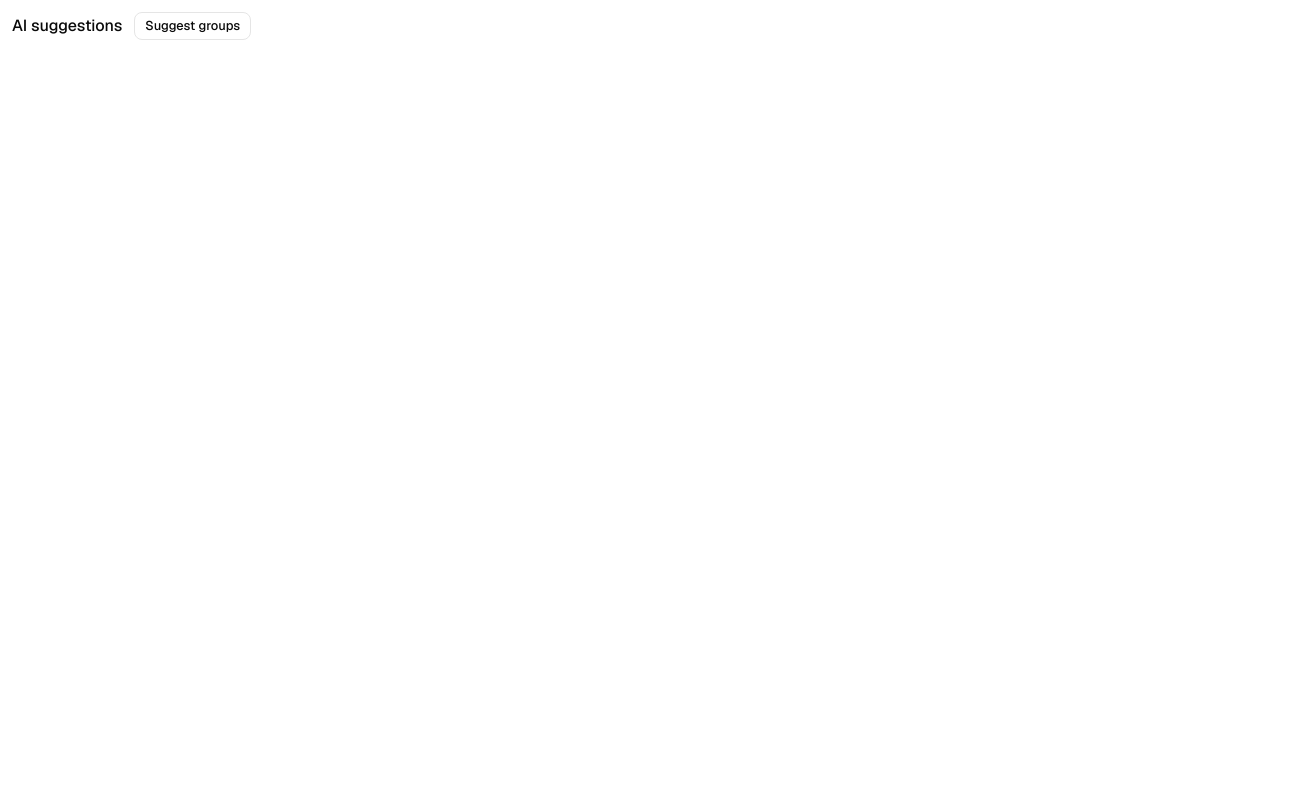
Test: TriagePanel › dismisses the suggestions, which changes nothing
This screenshot has width=1292, height=812.
Click the button "Suggest groups" at coordinates (193, 26), box [134,12,251,40]
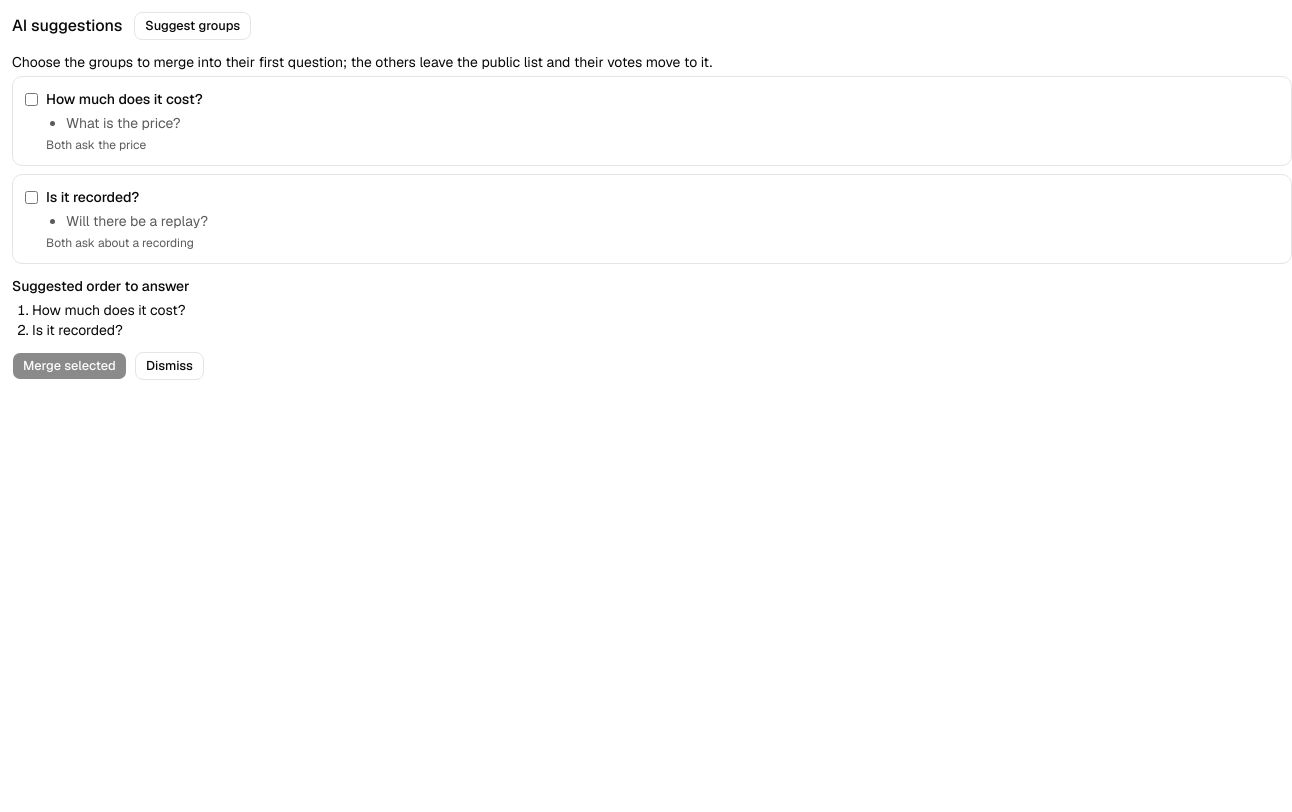
Click the button "Dismiss" at coordinates (169, 366), box [135,352,204,380]
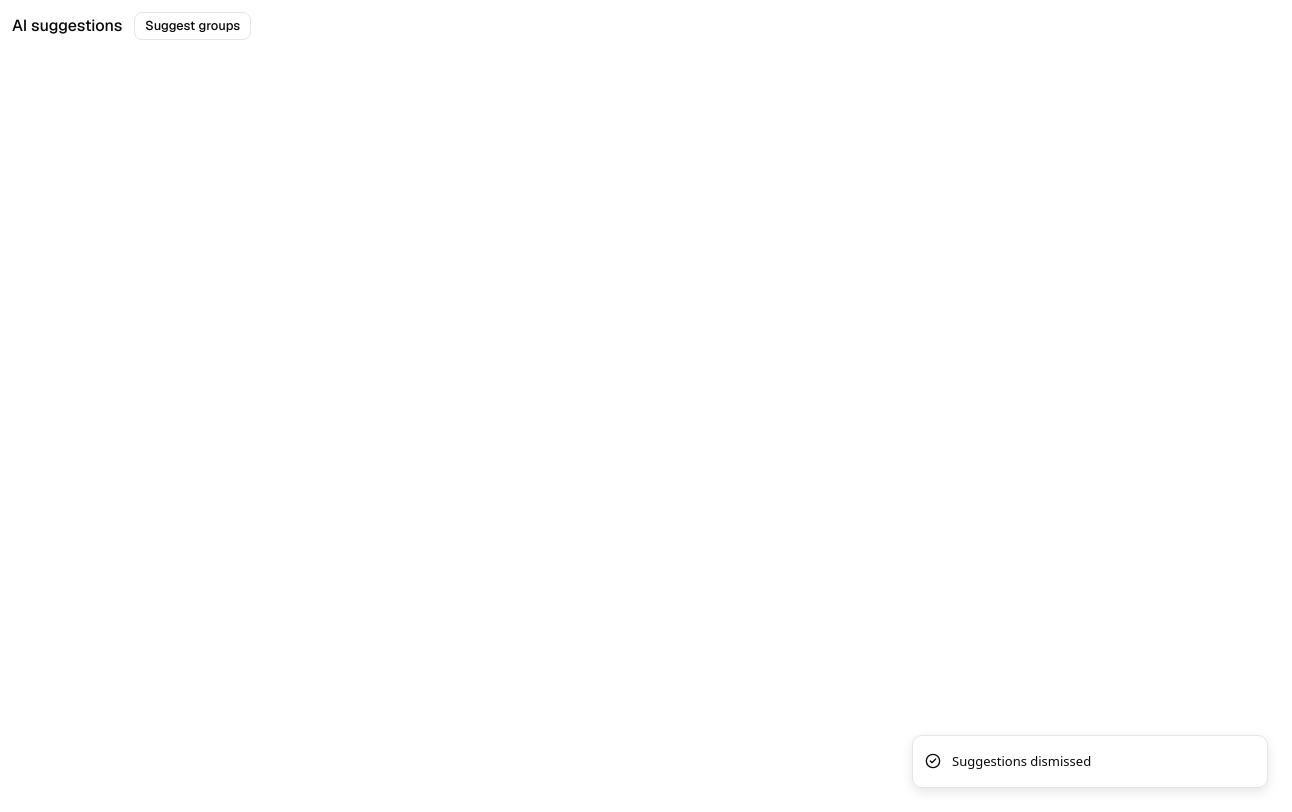
Result: the text "Suggestions dismissed" is shown at [952,752,1091,771]
